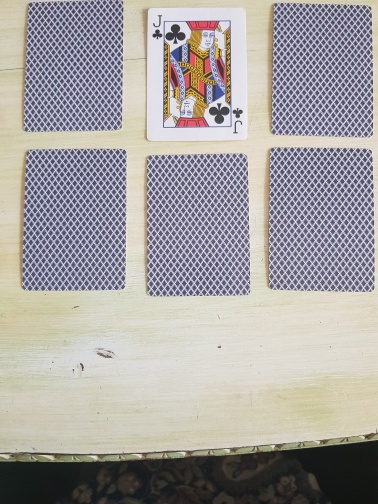jack: (145, 7, 248, 143)
